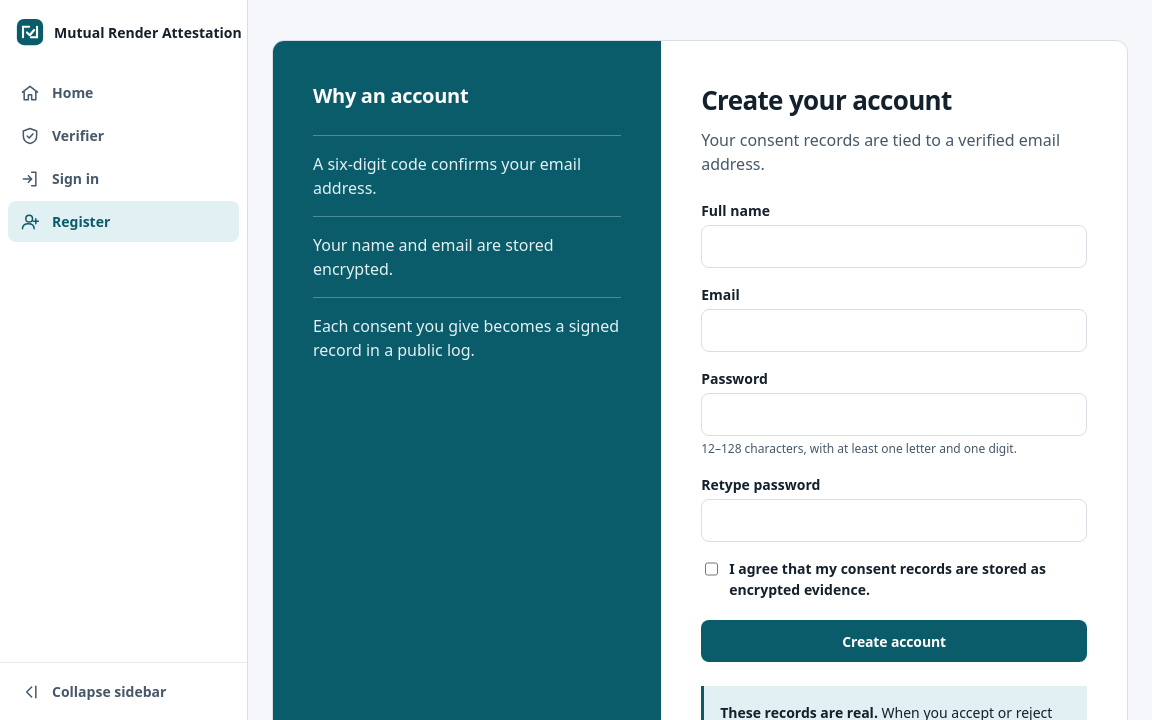
Test: Register page › renders field errors returned by the server
Type "Asha Verma" into the field labelled "Full name" at (894, 246), box x1=701 y1=225 x2=1087 y2=268
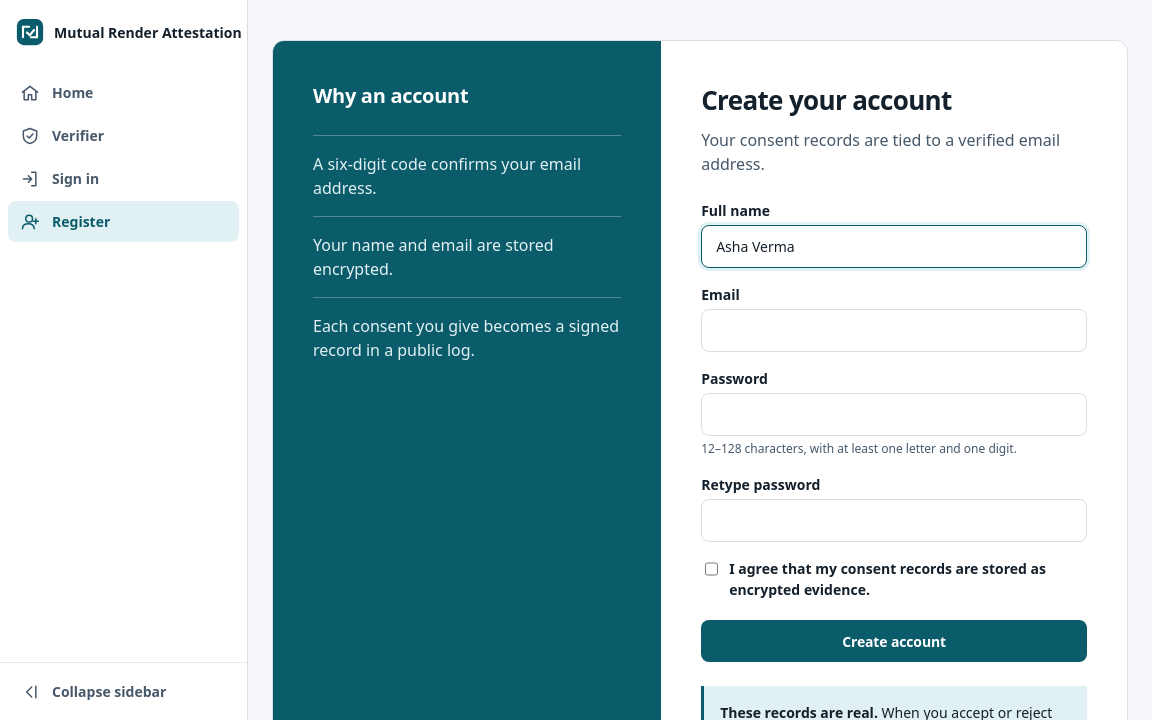
Type "asha@example.com" into the field labelled "Email" at (894, 330), box x1=701 y1=309 x2=1087 y2=352
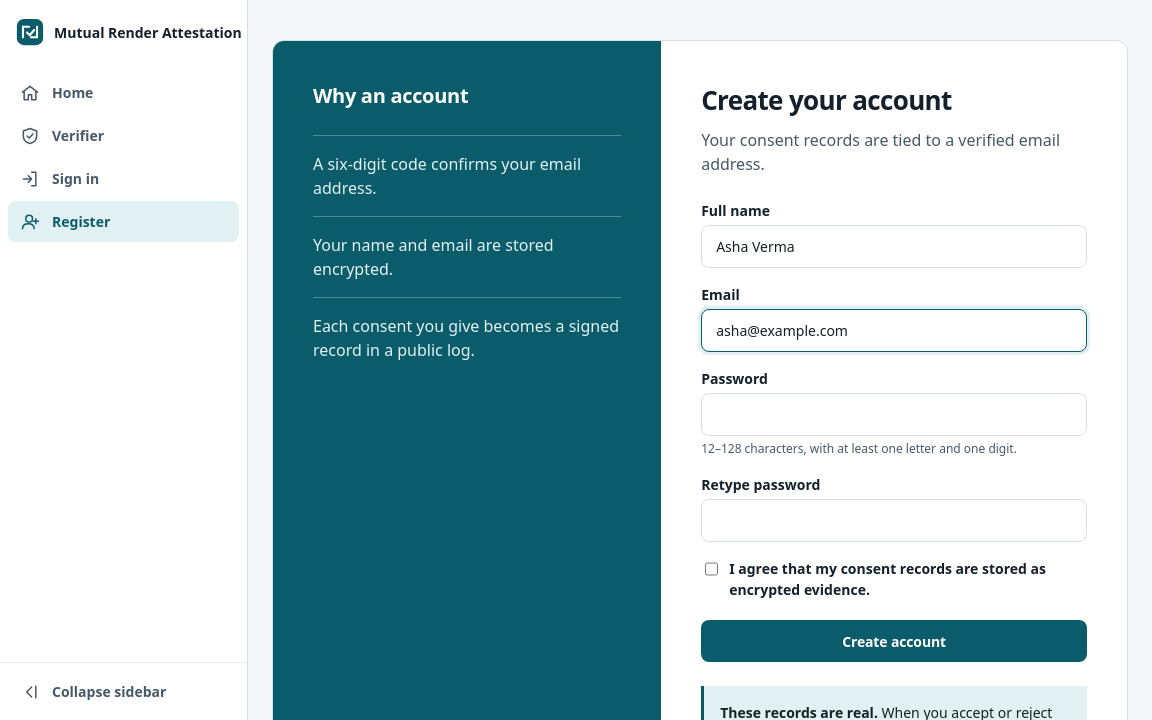
Type "correct horse 9 battery" into the password field labelled "Password" at (894, 414), box x1=701 y1=393 x2=1087 y2=436
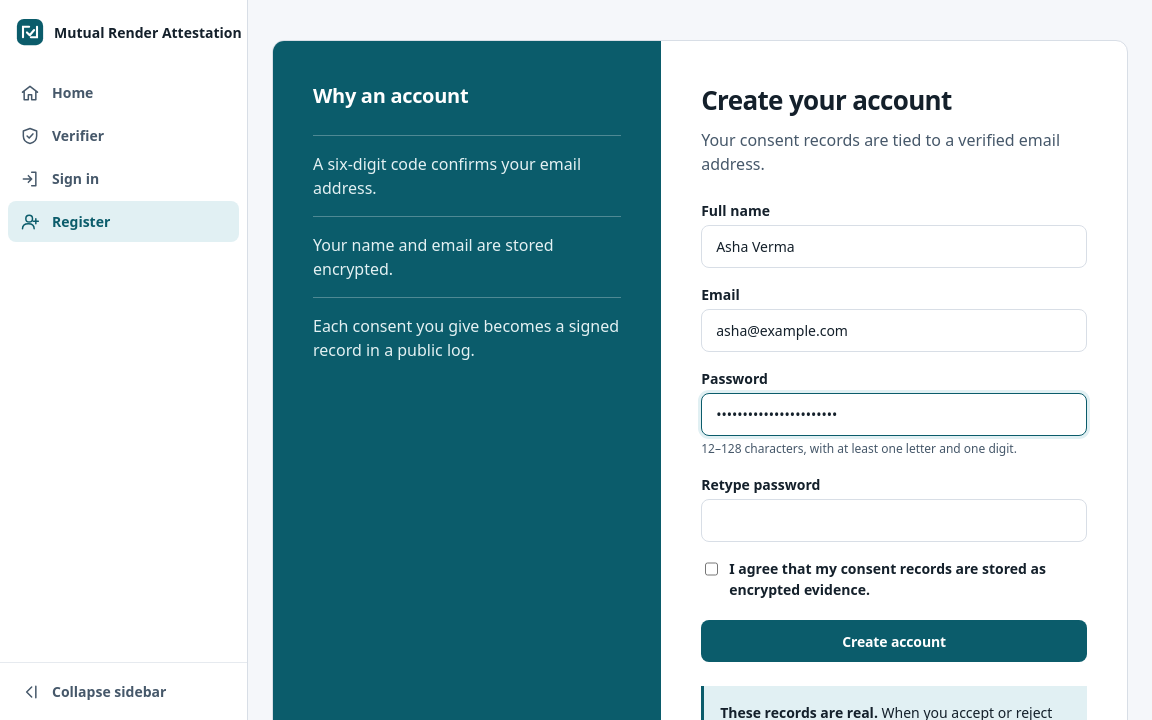
Type "correct horse 9 battery" into the password field labelled "Retype password" at (894, 520), box x1=701 y1=499 x2=1087 y2=542
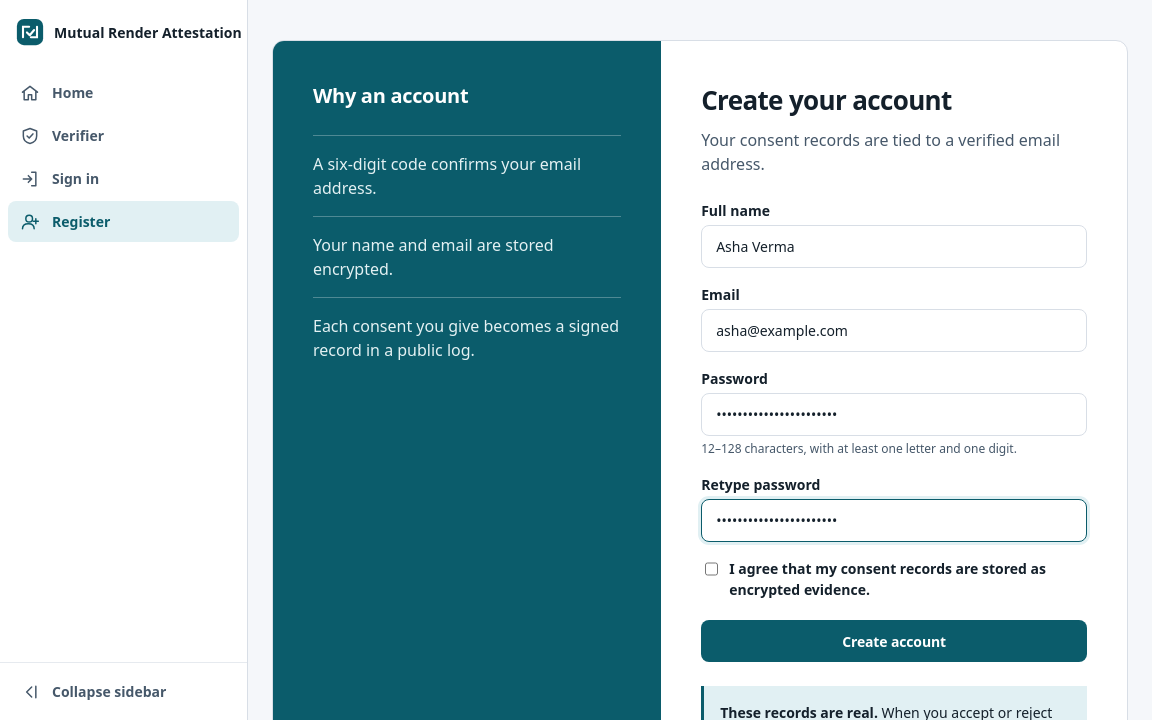
Click the checkbox labelled "I agree" at (712, 569), box x1=705 y1=561 x2=718 y2=577
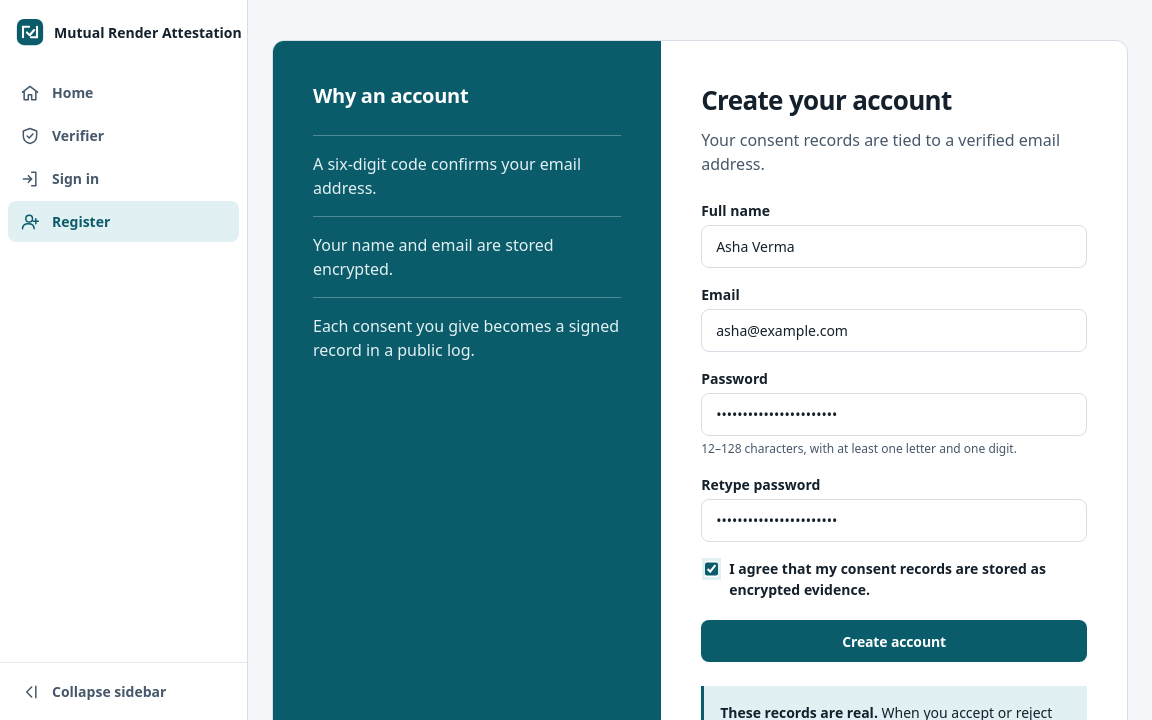
Click the button "Create account" at (894, 641), box x1=701 y1=620 x2=1087 y2=662
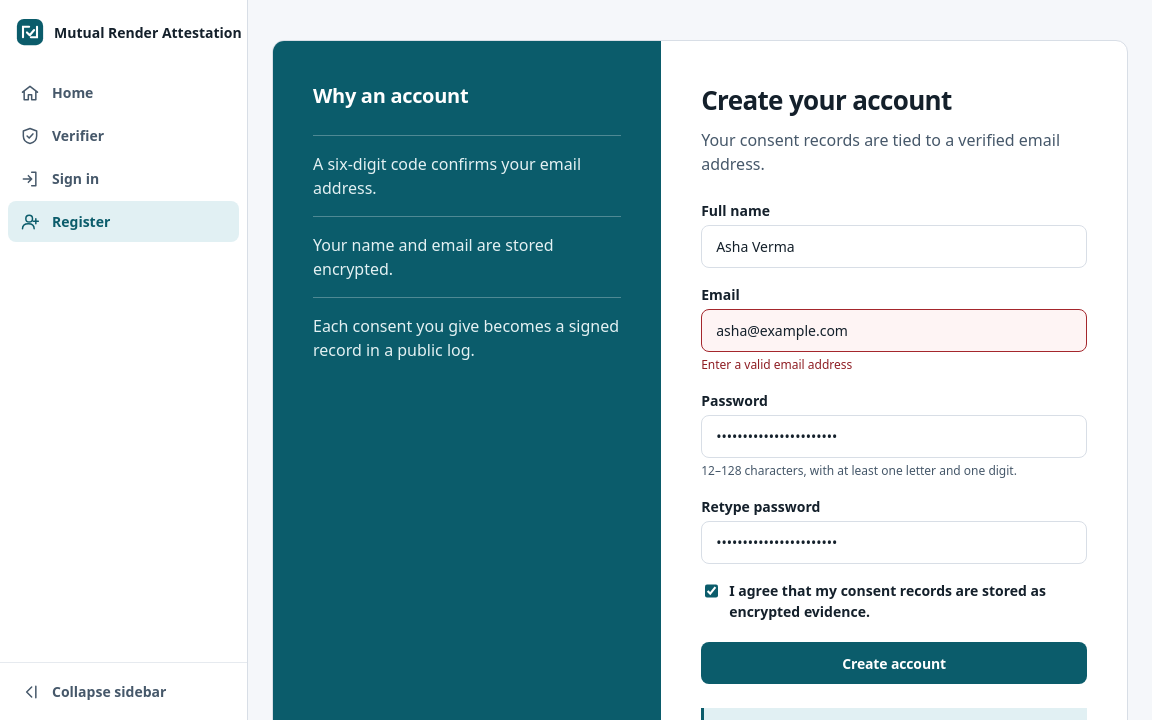
Check: the text "Enter a valid email address" is shown, box x1=701 y1=356 x2=852 y2=373
